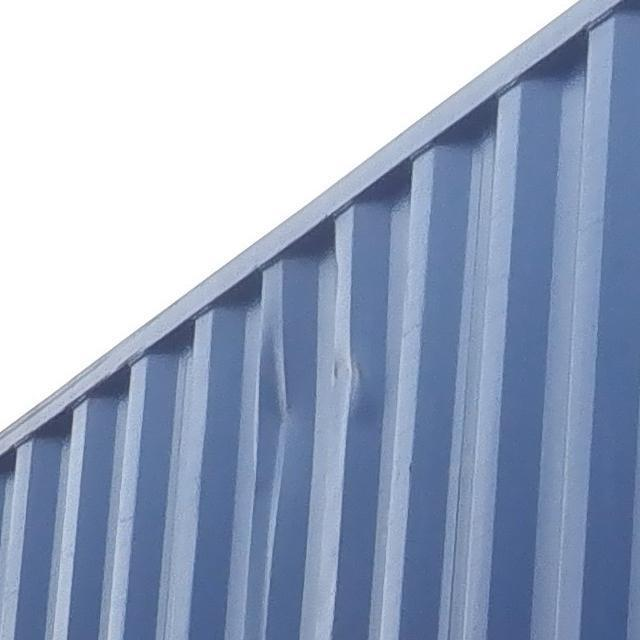dent: (229, 351, 320, 540)
